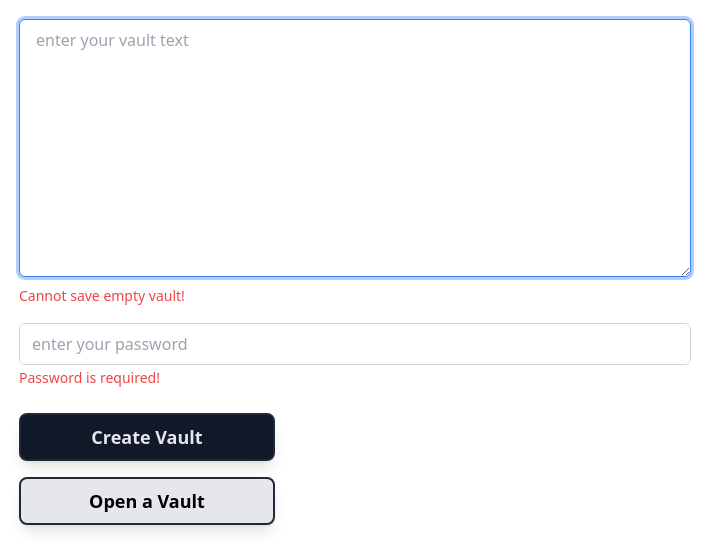
Test: NewVaultForm › no required error on valid submit
In the text box with placeholder "enter your vault text": [355, 148] box [19,19,691,277], type "My Vault"
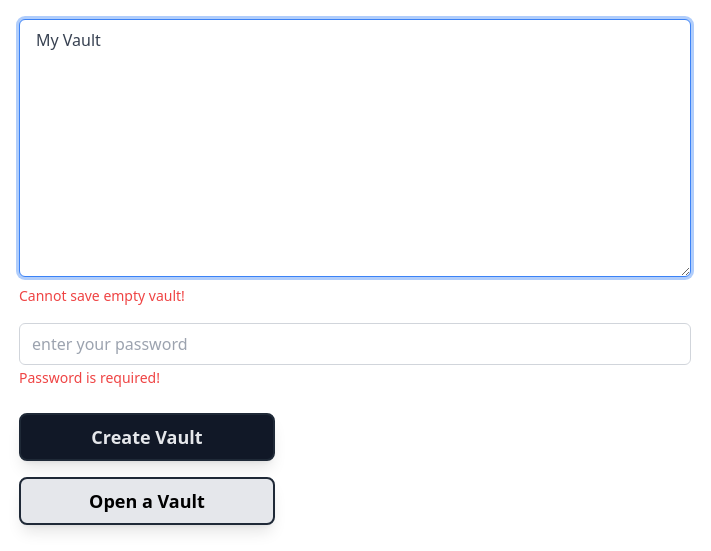
In the field with placeholder "enter your password": [355, 344] box [19,323,691,365], type "secret123"
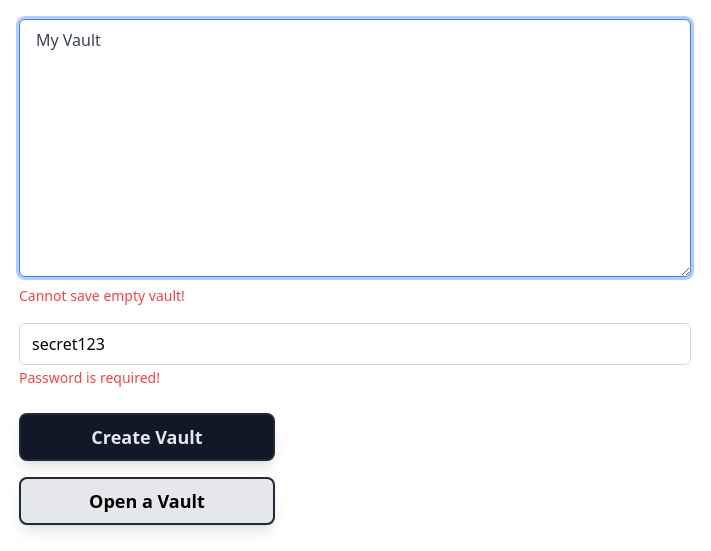
Click the button "Create Vault": [147, 437] box [19,413,275,461]
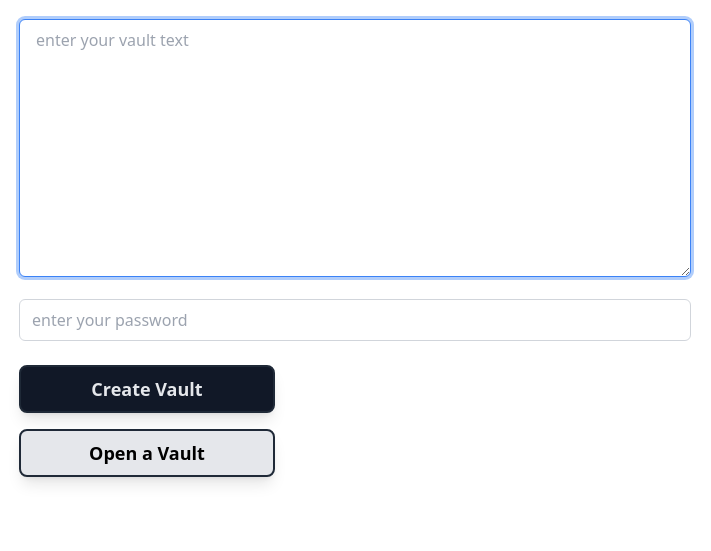
Now the text "Password is required" is gone
